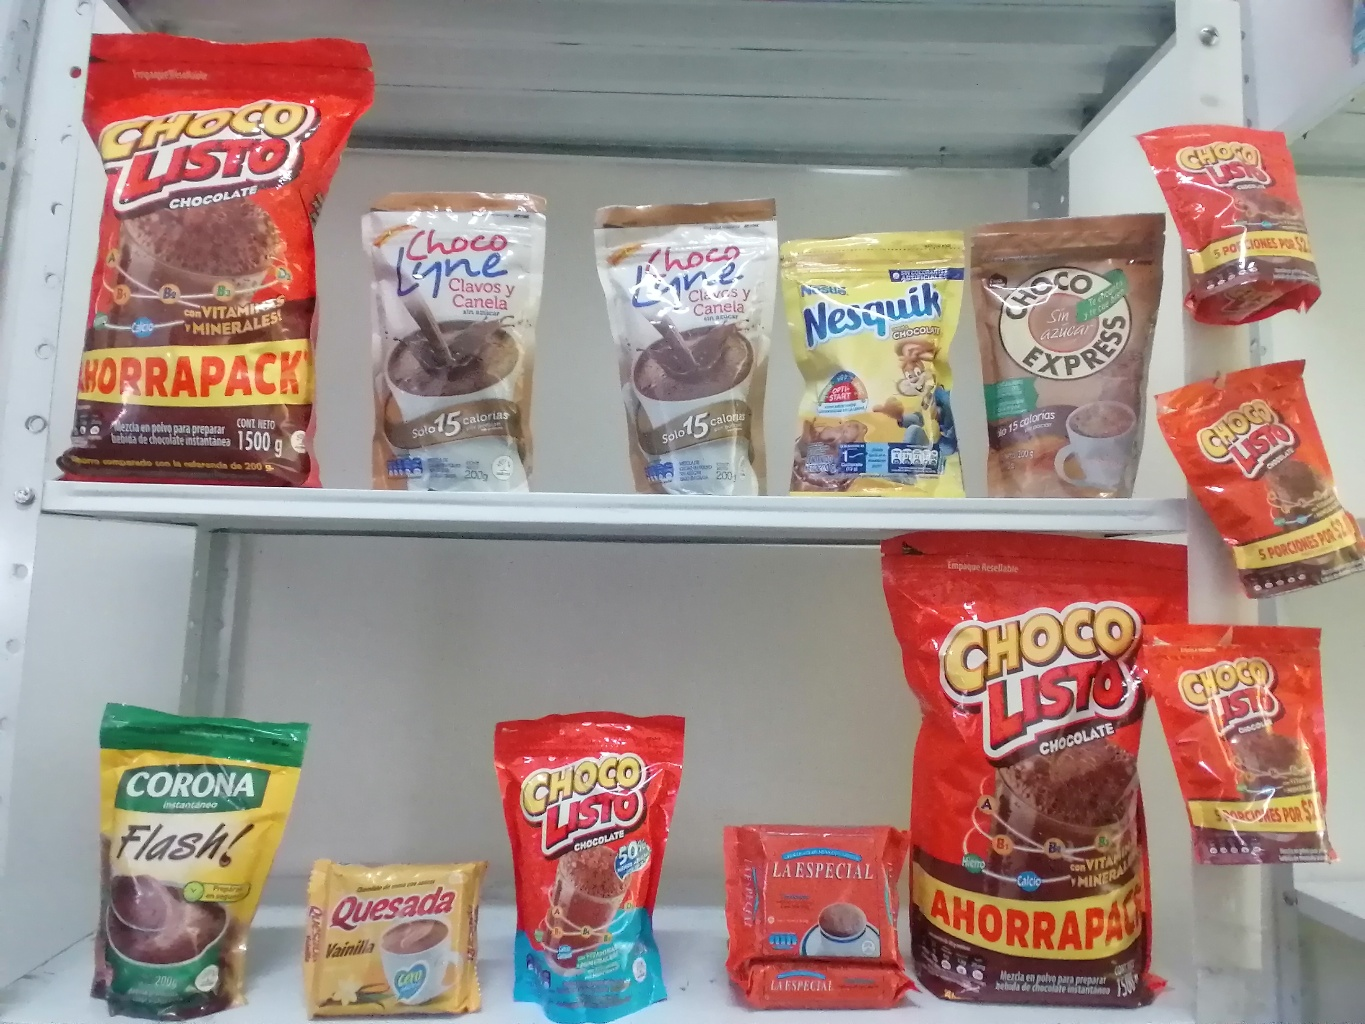COL0170104DYP20000: (480, 703, 717, 1024)
COL0170303DYP20000: (760, 215, 983, 497)
